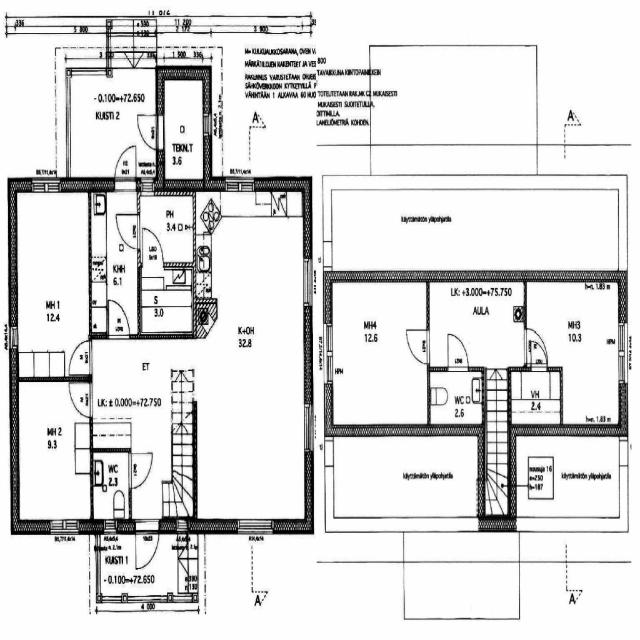door: (135, 520, 159, 574), (114, 142, 136, 192), (134, 115, 164, 149), (524, 328, 548, 364), (406, 329, 430, 364), (142, 229, 164, 267), (129, 453, 152, 488), (448, 332, 468, 372), (108, 302, 129, 339), (117, 214, 140, 247), (69, 342, 92, 374), (69, 384, 92, 416), (530, 340, 547, 372)
